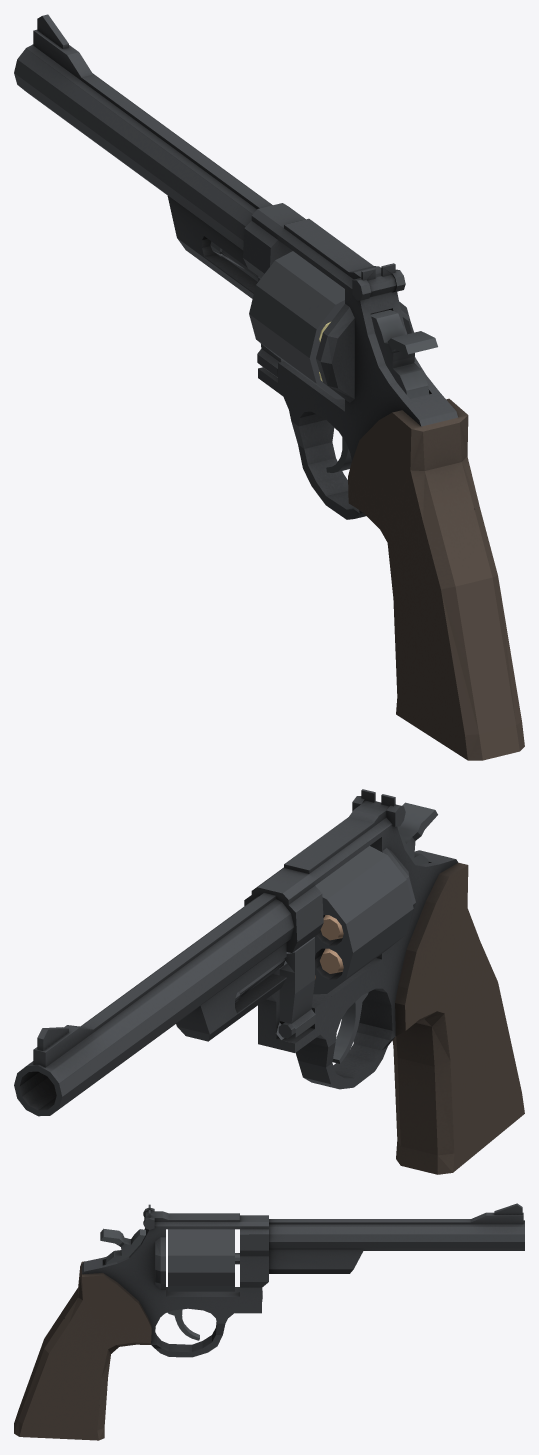
The model's file is smw_m29.glb.
The picture shows the model from 3 angles, top to bottom: view 1: azimuth 30°, elevation 25°; view 2: azimuth 150°, elevation 25°; view 3: azimuth 270°, elevation 25°; orthographic projection. The views are drawn at different scales.
Parts seen in each view (by area): view 1: Body_Long_Magnum_mat_0, Cylinder_Magnum_mat_0, Hammer_Magnum_mat_0, Cylinder_rod_Magnum_mat_0; view 2: Body_Long_Magnum_mat_0, Cylinder_Magnum_mat_0, Cylinder_rod_Magnum_mat_0, Hammer_Magnum_mat_0, Trigger_Magnum_mat_0, Bullet_Revolver_3_Ammo_Bullet:Ammo_Bullets_mat_0; view 3: Body_Long_Magnum_mat_0, Cylinder_Magnum_mat_0, Hammer_Magnum_mat_0, Trigger_Magnum_mat_0.
Part boxes in pixels (bbox=[...]): Body_Long_Magnum_mat_0: bbox=[14, 14, 524, 760]; Cylinder_Magnum_mat_0: bbox=[249, 251, 409, 399]; Hammer_Magnum_mat_0: bbox=[371, 310, 437, 398]; Cylinder_rod_Magnum_mat_0: bbox=[210, 241, 283, 377]; Body_Long_Magnum_mat_0: bbox=[14, 789, 524, 1174]; Cylinder_Magnum_mat_0: bbox=[313, 846, 413, 994]; Cylinder_rod_Magnum_mat_0: bbox=[235, 937, 315, 1041]; Hammer_Magnum_mat_0: bbox=[397, 802, 437, 865]; Trigger_Magnum_mat_0: bbox=[332, 992, 368, 1063]; Bullet_Revolver_3_Ammo_Bullet:Ammo_Bullets_mat_0: bbox=[320, 948, 343, 973]; Body_Long_Magnum_mat_0: bbox=[14, 1203, 524, 1440]; Cylinder_Magnum_mat_0: bbox=[168, 1229, 234, 1291]; Hammer_Magnum_mat_0: bbox=[100, 1228, 145, 1264]; Trigger_Magnum_mat_0: bbox=[167, 1309, 199, 1340].
Size of the model in its own units: 4.84 by 18.44 by 37.29.
Materials: 2 (2 with a texture image).
